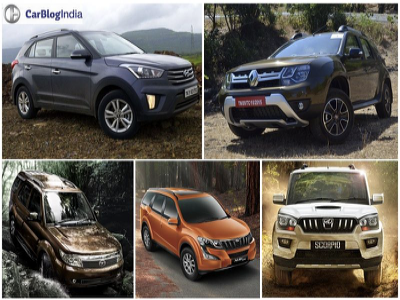licence: (307, 236, 345, 253), (227, 254, 253, 263)
